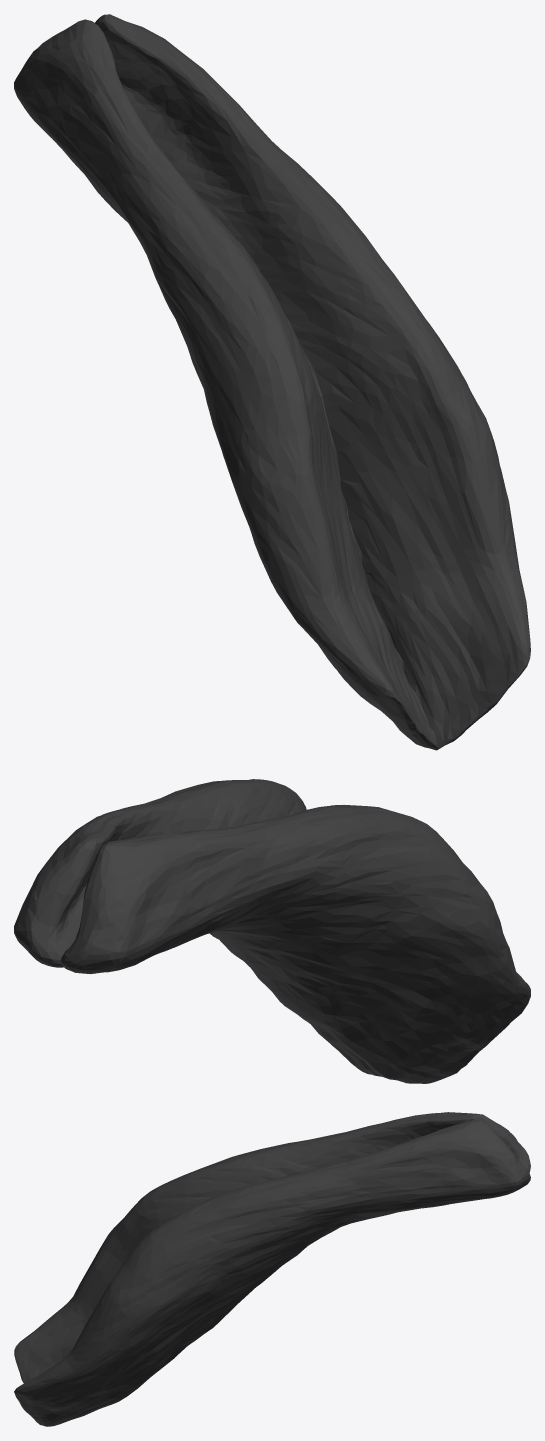
The model's file is m_splenius_capitis.glb.
3 views of the same model, one above another, from view 1: azimuth 30°, elevation 25°; view 2: azimuth 150°, elevation 25°; view 3: azimuth 270°, elevation 25° (orthographic). The views are drawn at different scales.
Parts seen in each view (by area): view 1: m_splenius_capitis; view 2: m_splenius_capitis; view 3: m_splenius_capitis.
Part boxes in pixels (x1=…): m_splenius_capitis: x1=14, y1=14, x2=530, y2=750; m_splenius_capitis: x1=14, y1=779, x2=530, y2=1083; m_splenius_capitis: x1=14, y1=1112, x2=530, y2=1426.
Bounding box in the file's own units: 0.00216 × 0.00408 × 0.00619.
1 material, 1 textured.
